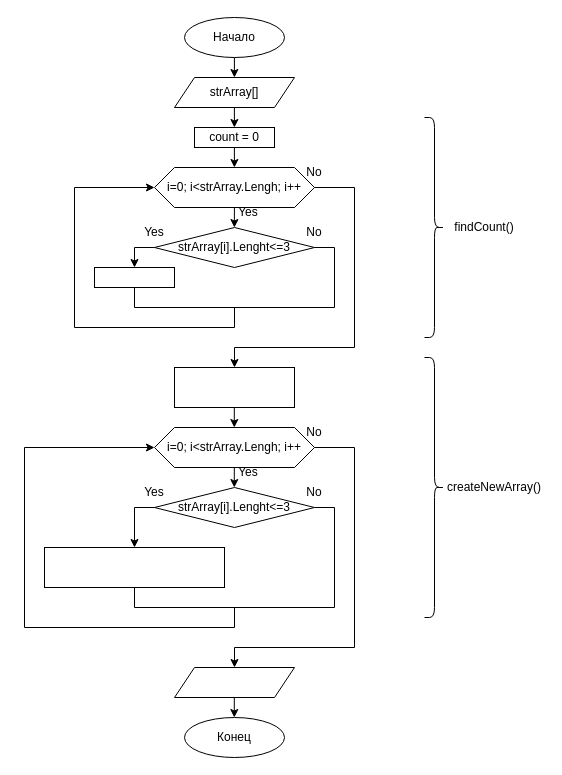
Some shapes in this 562 by 775 pixel diagram are drawn without their labels. Each missing label, with the box of its shape:
count ++: (94, 266, 174, 288)
newStrArray[]: (174, 666, 294, 698)
newStrArray[count] = strArray[i] count ++: (44, 546, 224, 588)
newStrArray[count] count = 0: (174, 366, 294, 408)
